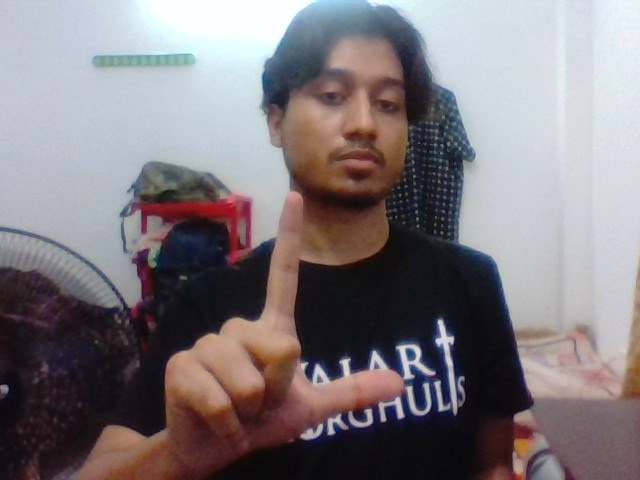L: (181, 175, 424, 435)
